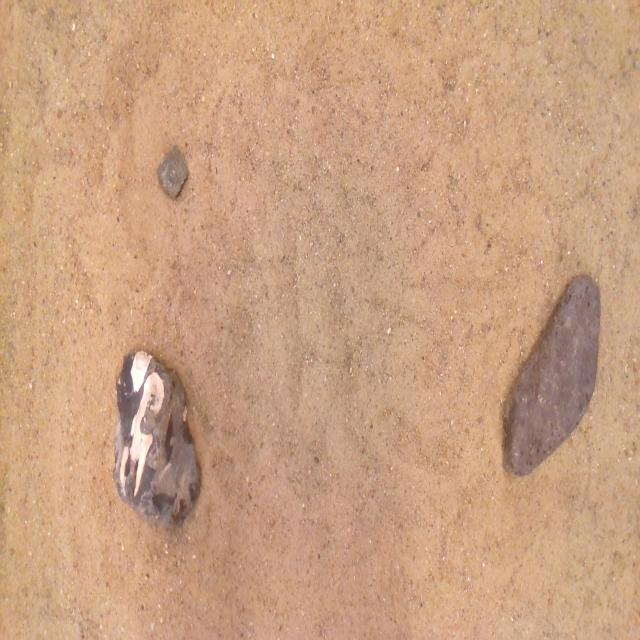rock: (505, 276, 600, 475), (114, 350, 200, 524), (158, 146, 188, 198)
